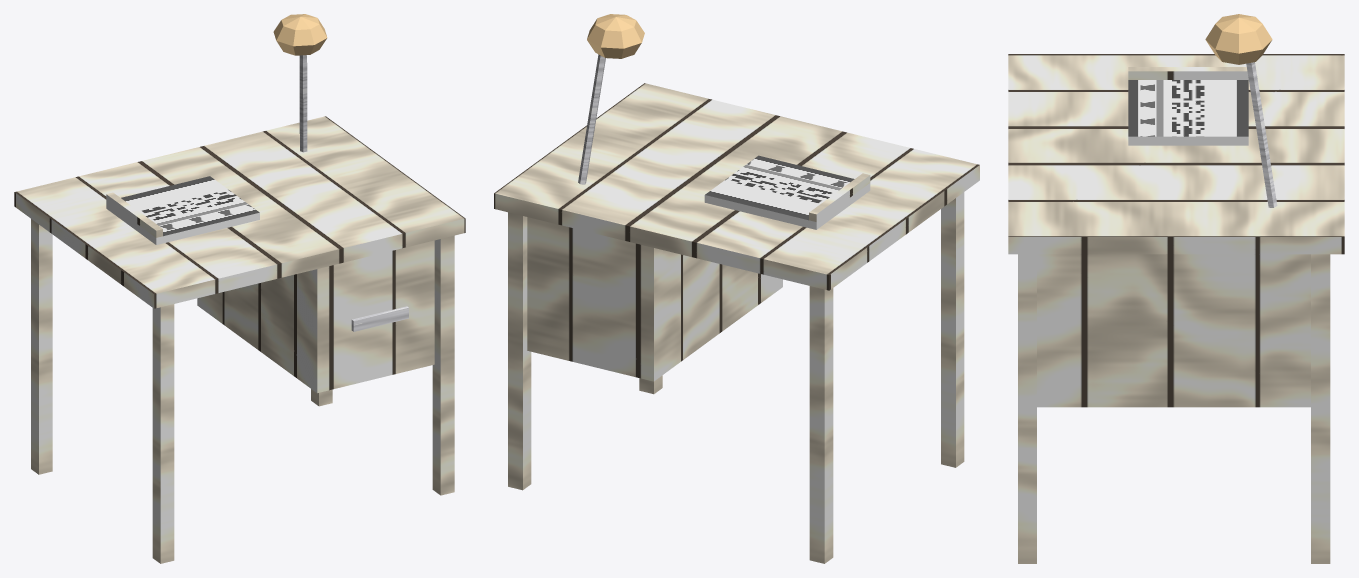
The model's file is scrivania_mag.obj.
3 renders of one model, left to right at view 1: azimuth 30°, elevation 25°; view 2: azimuth 150°, elevation 25°; view 3: azimuth 270°, elevation 25°, orthographic. The views are drawn at different scales.
Parts seen in each view (by area): view 1: legno_000, legno_002, legno_001, stampa_a_004, liscio_007, metallo_006, legno_005, metallo_003; view 2: legno_000, legno_002, legno_001, stampa_a_004, liscio_007, metallo_006, legno_005; view 3: legno_000, legno_002, legno_001, stampa_a_004, liscio_007, legno_005, metallo_006.
Boxes of the visible parts, box(x1,y1,x2,y2) form: legno_000: box(14, 116, 465, 308); legno_002: box(197, 240, 434, 393); legno_001: box(31, 219, 454, 563); stampa_a_004: box(106, 176, 259, 244); liscio_007: box(273, 14, 327, 55); metallo_006: box(299, 55, 307, 152); legno_005: box(106, 192, 162, 237); metallo_003: box(351, 306, 408, 331); legno_000: box(494, 83, 979, 290); legno_002: box(527, 217, 782, 381); legno_001: box(508, 192, 964, 563); stampa_a_004: box(704, 155, 870, 229); liscio_007: box(587, 14, 644, 58); metallo_006: box(578, 54, 605, 184); legno_005: box(809, 173, 870, 221); legno_000: box(1008, 54, 1344, 254); legno_002: box(1037, 254, 1310, 407); legno_001: box(1018, 254, 1330, 563); stampa_a_004: box(1128, 80, 1248, 145); liscio_007: box(1205, 14, 1272, 64); legno_005: box(1128, 67, 1248, 79); metallo_006: box(1246, 62, 1277, 207).
Size of the model in its own units: 0.9 by 1.17 by 0.7.
8 materials, 7 textured.
